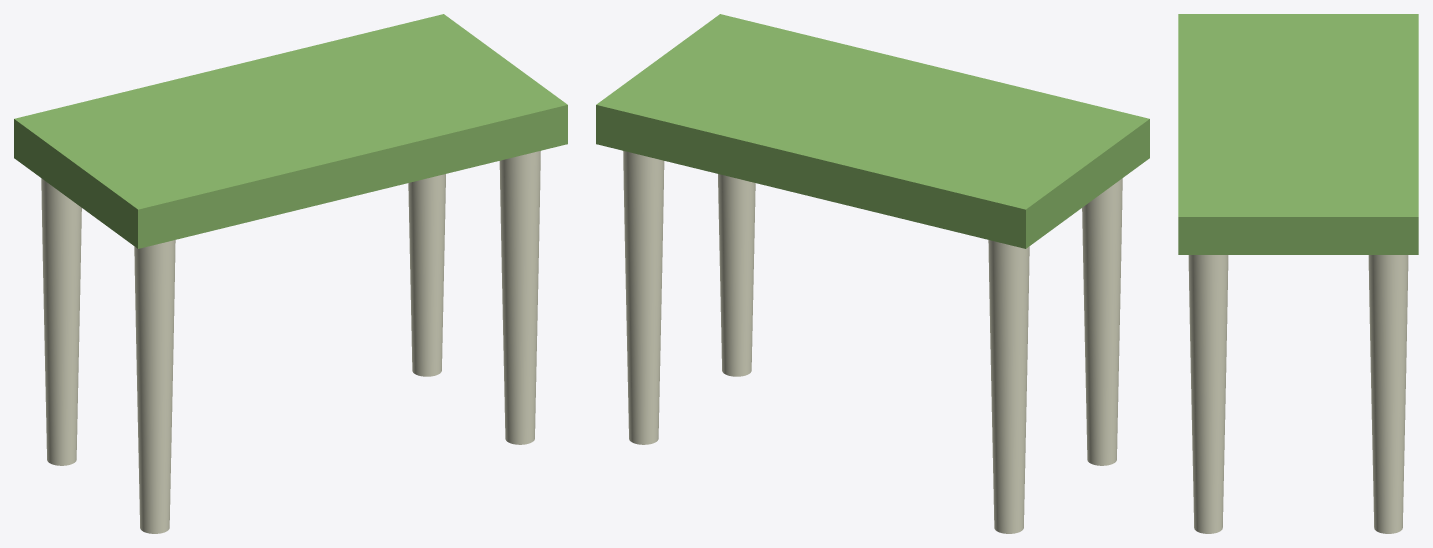
File: desk1_lightgreen.glb
3 renders of one model, left to right at view 1: azimuth 30°, elevation 25°; view 2: azimuth 150°, elevation 25°; view 3: azimuth 270°, elevation 25°, orthographic. The views are drawn at different scales.
Parts seen in each view (by area): view 1: Box002; view 2: Box002; view 3: Box002.
Boxes of the visible parts, bbox=[...] form: Box002: bbox=[14, 14, 567, 533]; Box002: bbox=[596, 14, 1149, 533]; Box002: bbox=[1178, 14, 1418, 533].
Size of the model in its own units: 0.16 by 0.12 by 0.08.
Materials: 1 (1 with a texture image).
